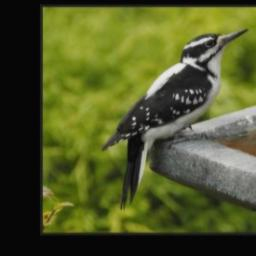Woodpecker: (102, 23, 250, 211)
